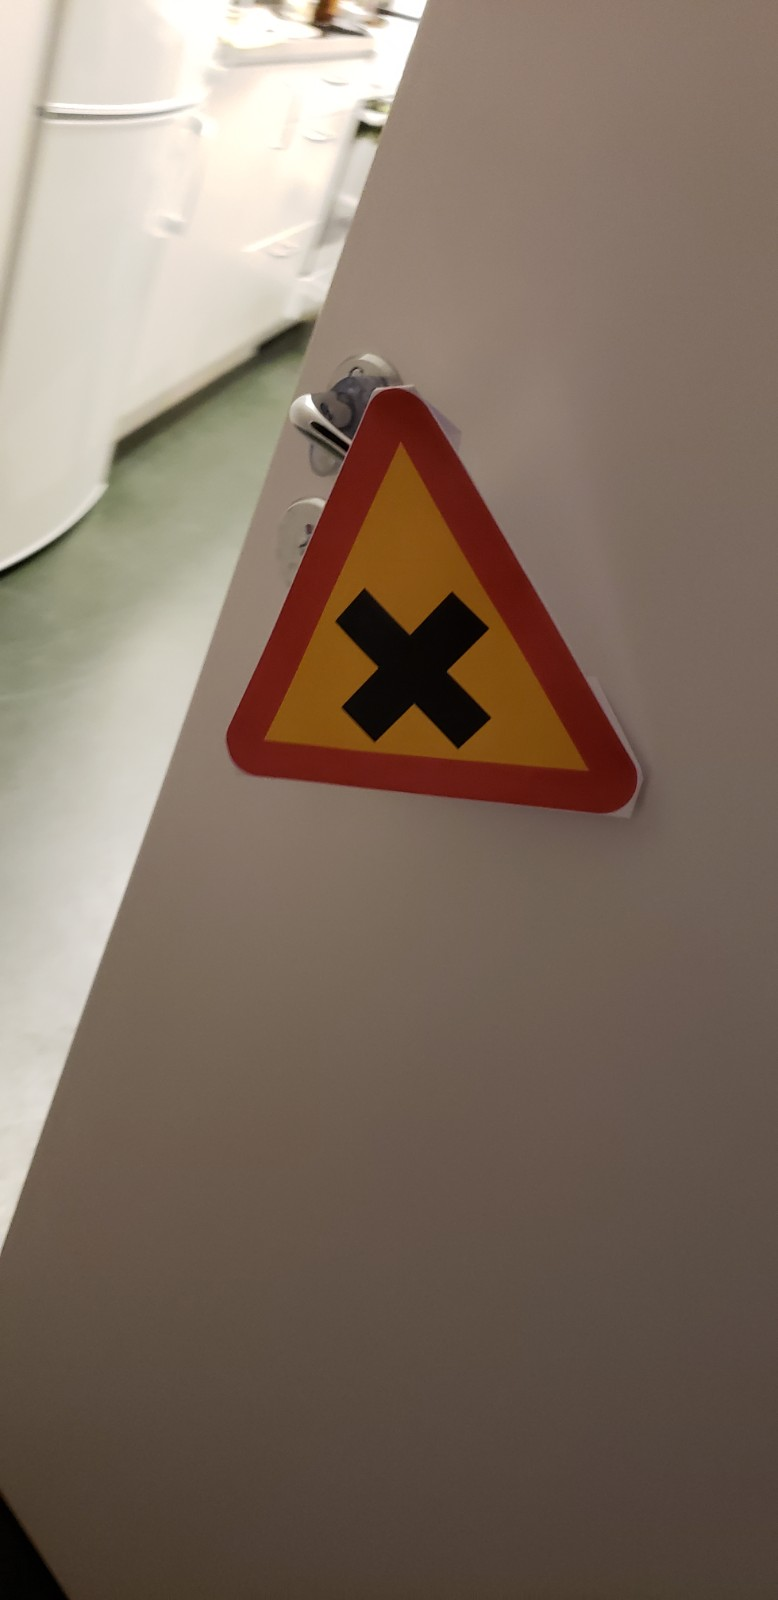junction: (260, 345, 667, 862)
